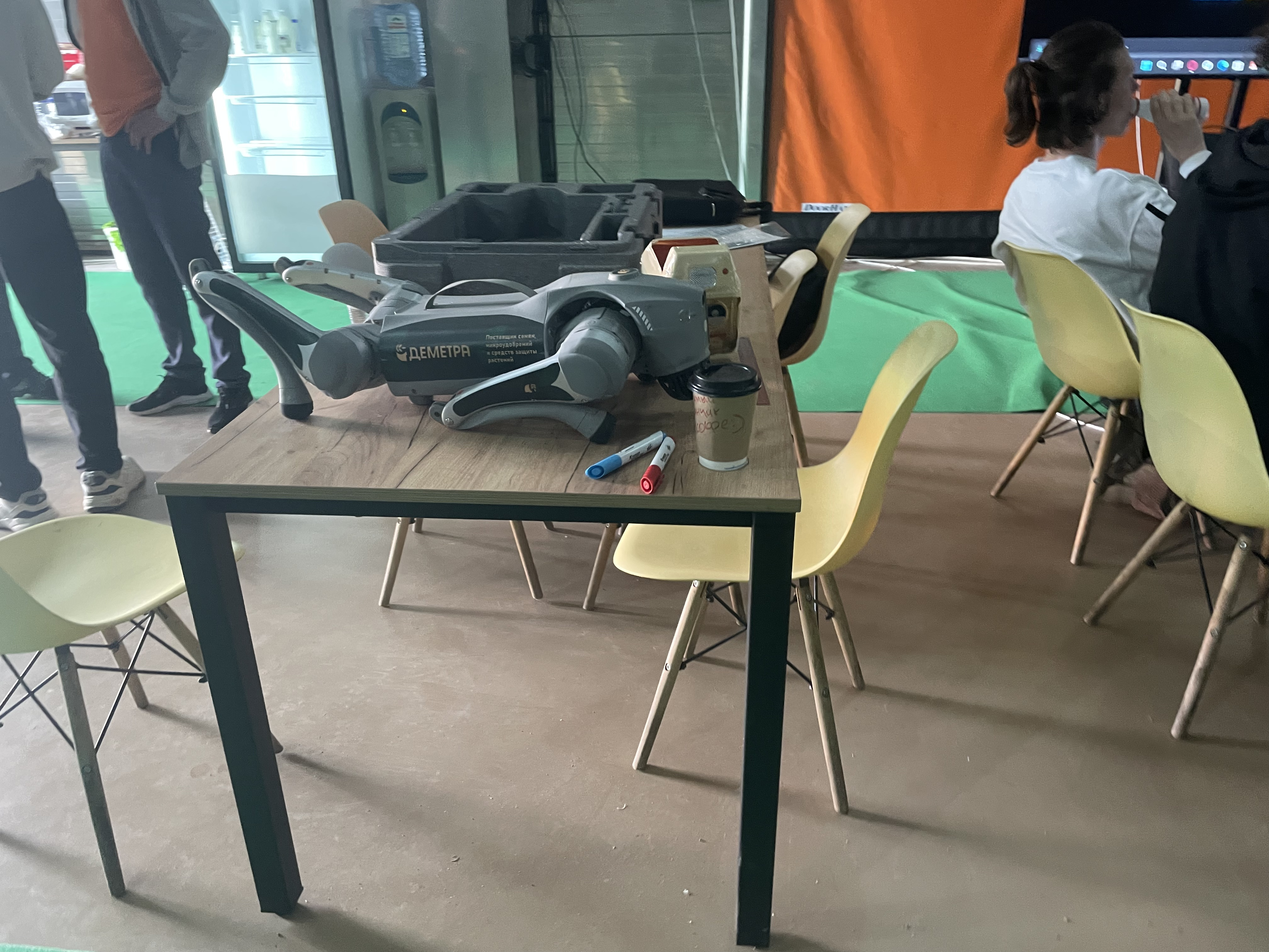cup: (688, 364, 763, 472)
